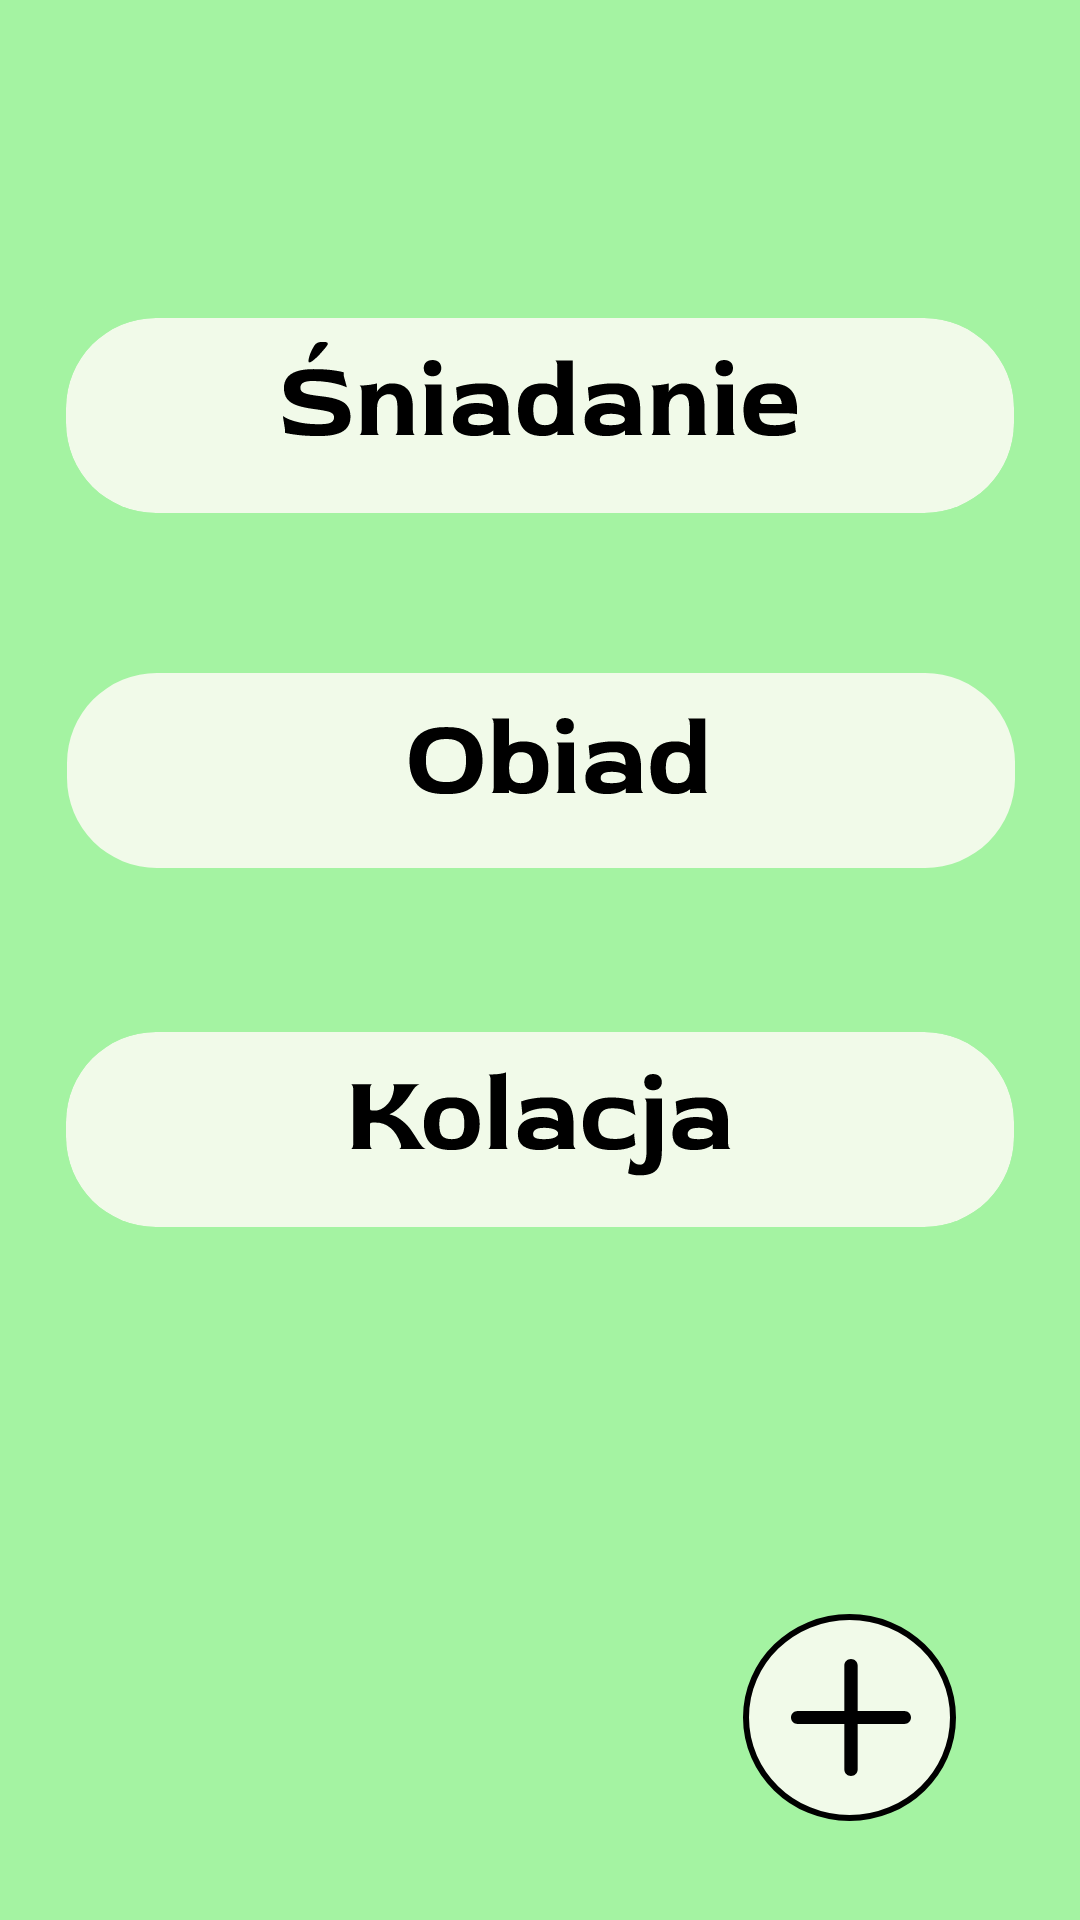

Screen size 1080 x 1920. Icon name, then its center in pixels as (x=x, y=y):
plus: (x=849, y=1717)
